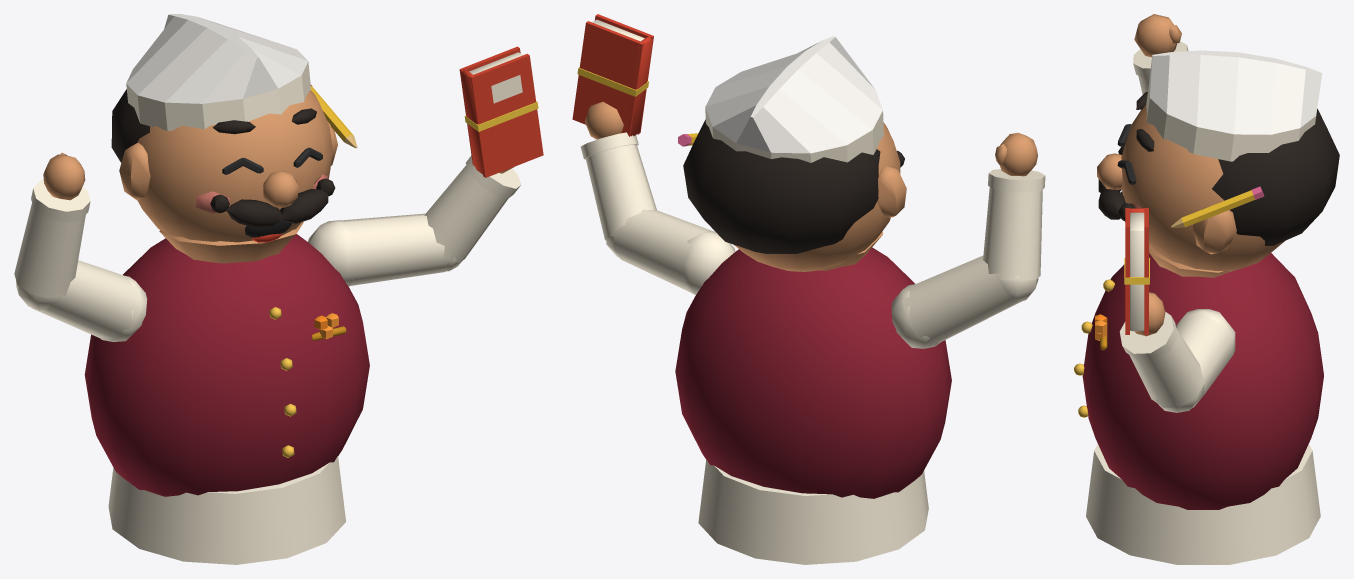
File: munshi_cheer.glb
3 renders of one model, left to right at view 1: azimuth 30°, elevation 25°; view 2: azimuth 150°, elevation 25°; view 3: azimuth 270°, elevation 25°, orthographic. The views are drawn at different scales.
Parts seen in each view (by area): view 1: body, head, arm_l, arm_r; view 2: body, head, arm_l, arm_r; view 3: body, head, arm_l, arm_r.
Part boxes in pixels (<box>): body: <box>84,234,369,564</box>; head: <box>111,14,357,263</box>; arm_l: <box>308,46,543,286</box>; arm_r: <box>14,152,147,341</box>; body: <box>675,247,951,564</box>; head: <box>678,36,906,271</box>; arm_l: <box>572,14,735,294</box>; arm_r: <box>891,132,1045,348</box>; body: <box>1074,253,1323,564</box>; head: <box>1097,50,1339,277</box>; arm_l: <box>1119,208,1235,412</box>; arm_r: <box>1133,14,1188,94</box>.
Bounding box in the file's own units: 1.69 × 1.55 × 0.8031.
1 material, 1 textured.
